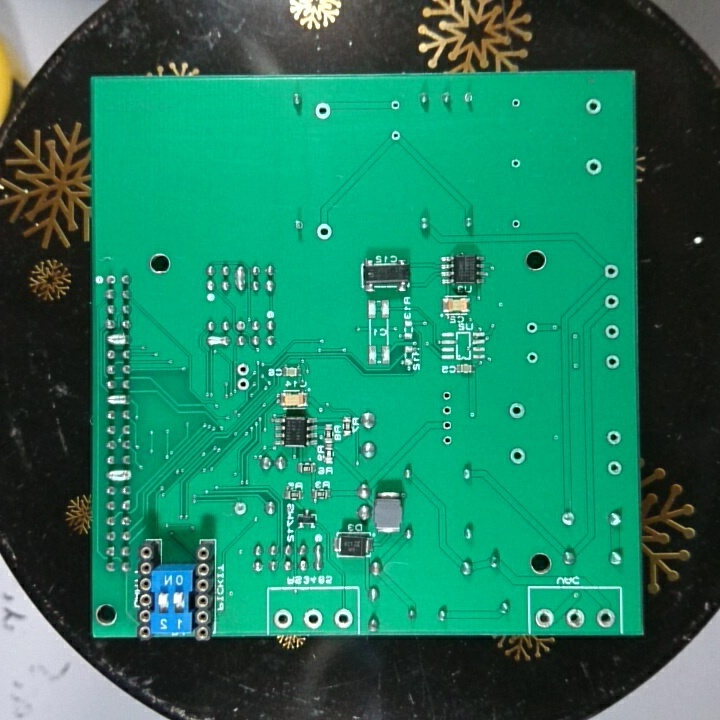F: (300, 606, 325, 632), (592, 603, 616, 629), (532, 606, 556, 632), (331, 604, 354, 631), (562, 605, 588, 628), (581, 96, 605, 120), (507, 443, 529, 469), (271, 606, 295, 629), (313, 100, 335, 123), (601, 350, 621, 374), (559, 507, 579, 531), (313, 220, 333, 244), (603, 427, 624, 449), (582, 158, 605, 178), (601, 260, 621, 282), (459, 89, 479, 110), (230, 498, 251, 518), (507, 400, 527, 421), (602, 322, 622, 342), (603, 291, 621, 312), (606, 458, 624, 478), (233, 361, 254, 378), (292, 216, 307, 237), (524, 346, 539, 367), (507, 94, 523, 113), (524, 318, 541, 335), (508, 216, 524, 234), (103, 270, 118, 289), (233, 377, 253, 391), (438, 418, 456, 433), (388, 96, 402, 115), (508, 156, 523, 173), (233, 318, 248, 335), (438, 388, 454, 403), (440, 433, 455, 449), (387, 127, 401, 144), (440, 403, 456, 416)
P: (102, 393, 133, 410), (233, 261, 247, 296), (104, 468, 134, 484), (105, 333, 133, 349), (204, 332, 230, 349), (313, 542, 325, 575)
